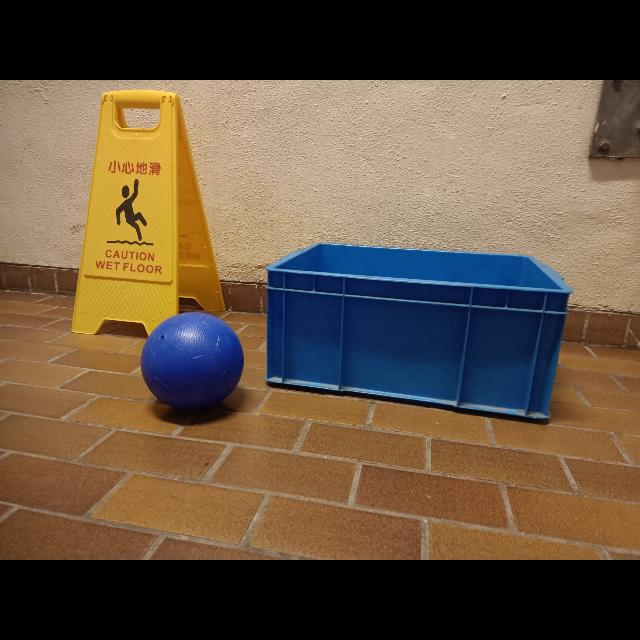B: (141, 312, 245, 412)
